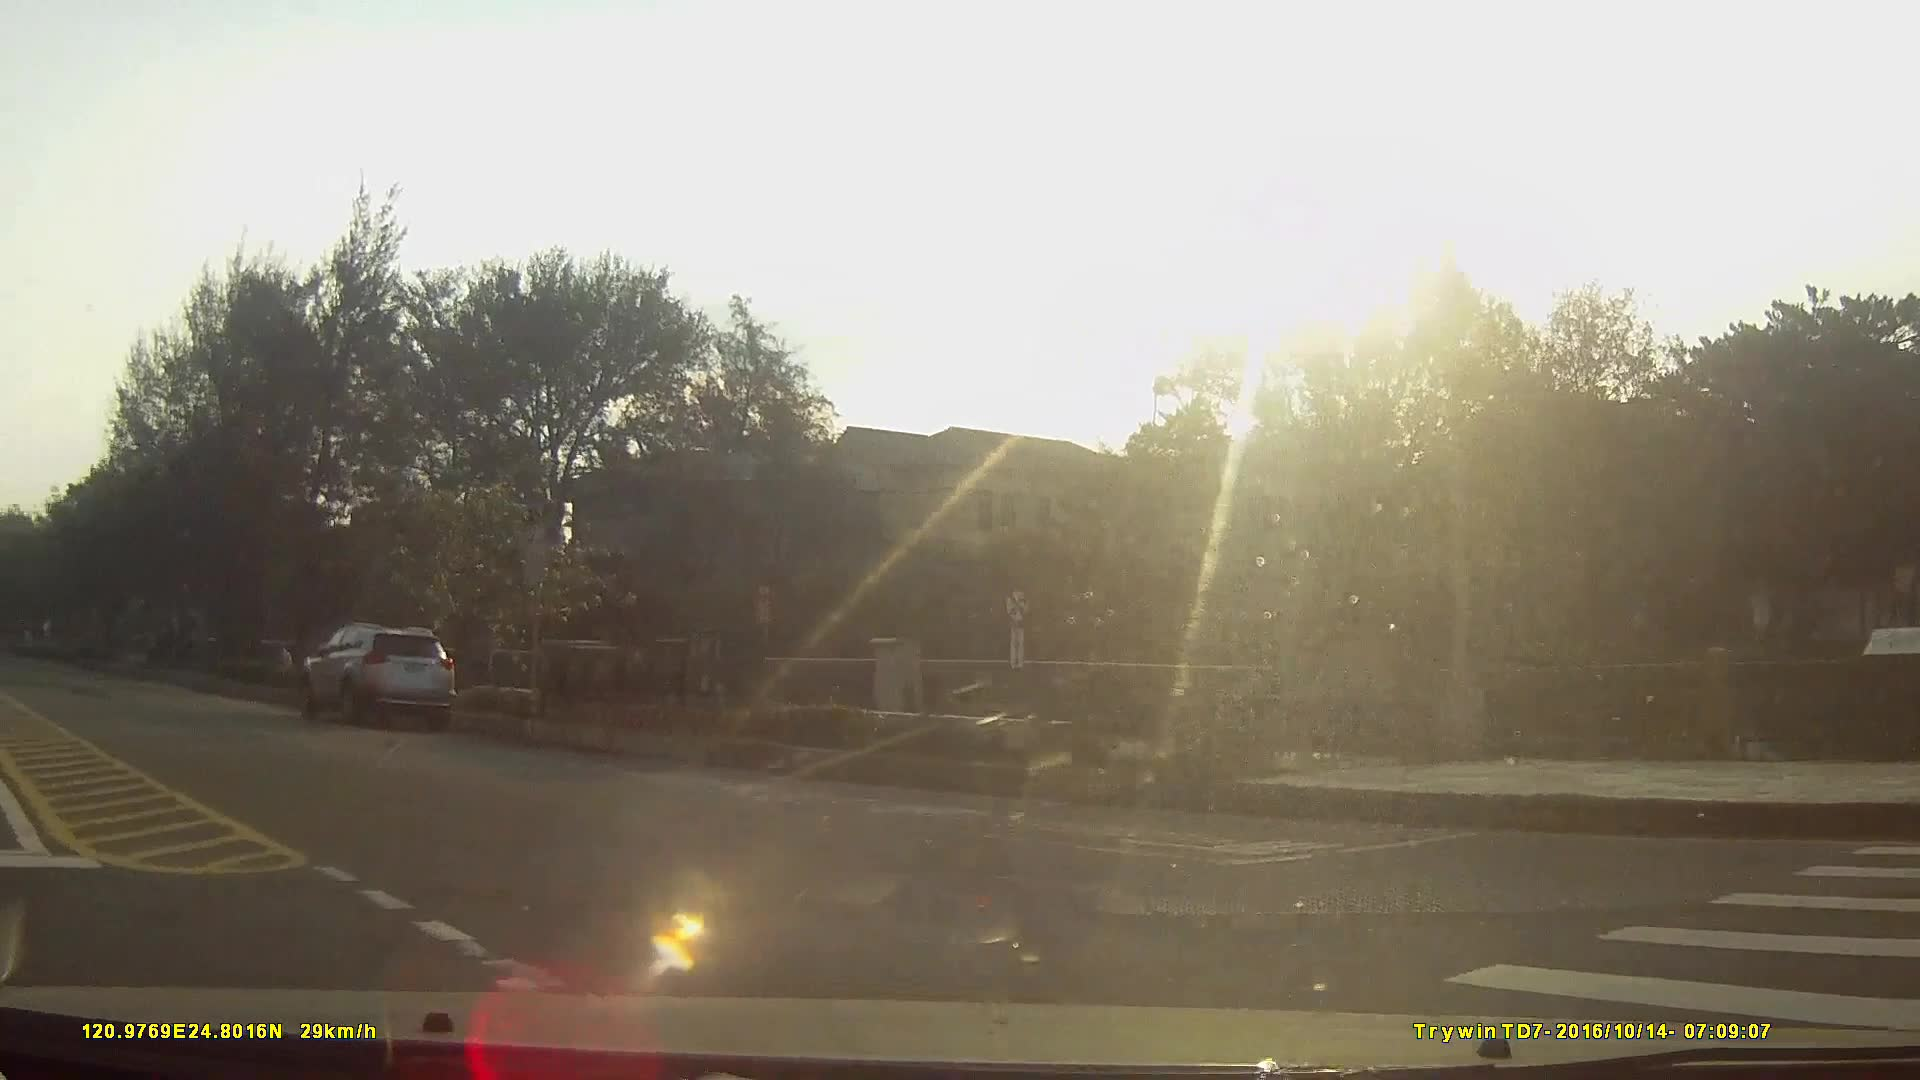vehicle: (297, 618, 452, 732)
